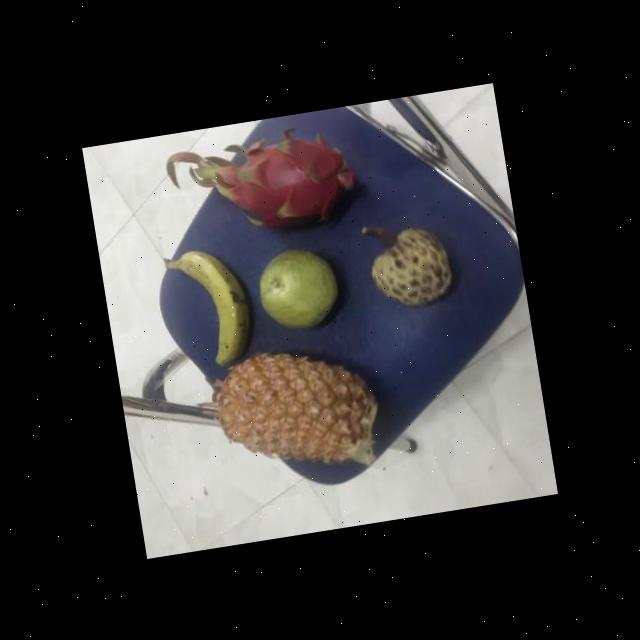Sakya fruit: (367, 220, 458, 316)
banana: (169, 245, 259, 376)
guava: (254, 244, 344, 338)
pineapple: (212, 339, 387, 478)
pitaya: (212, 125, 364, 246)
